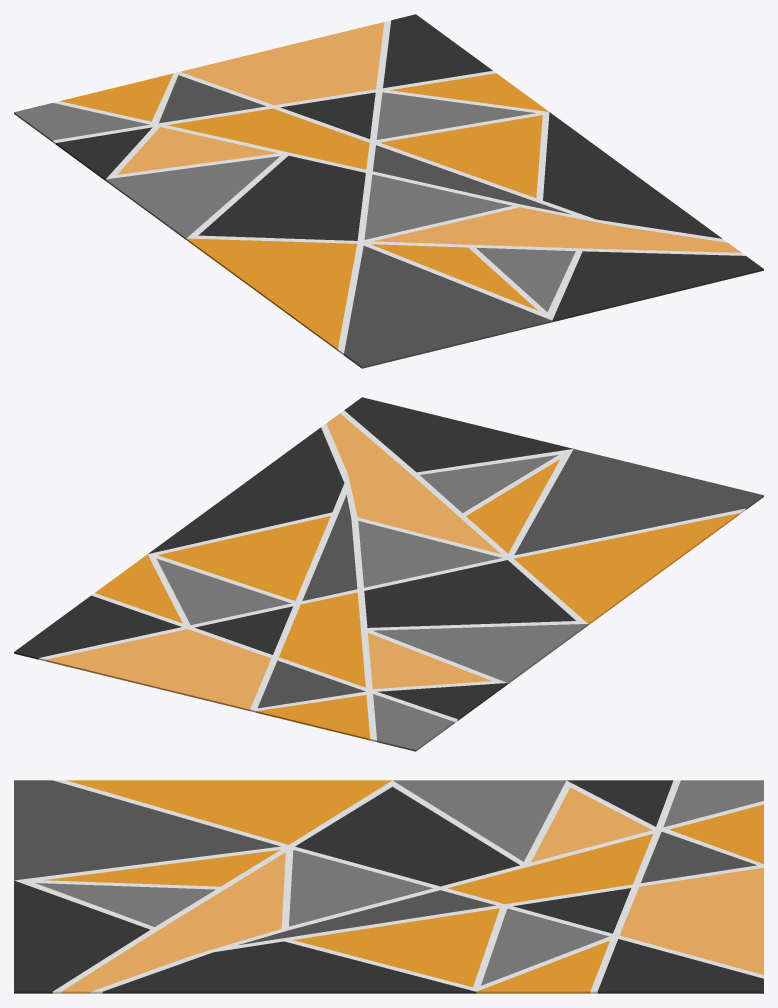
File: Int_Carpet04.fbx
The picture shows the model from 3 angles, top to bottom: view 1: azimuth 30°, elevation 25°; view 2: azimuth 150°, elevation 25°; view 3: azimuth 270°, elevation 25°; orthographic projection. The views are drawn at different scales.
Parts seen in each view (by area): view 1: Int_Carpet04; view 2: Int_Carpet04; view 3: Int_Carpet04.
Boxes of the visible parts, x1,y1,x2,y2 form: Int_Carpet04: (14, 14, 763, 368); Int_Carpet04: (14, 397, 763, 751); Int_Carpet04: (14, 780, 763, 993).
Bounding box in the file's own units: 500 × 750 × 2.
